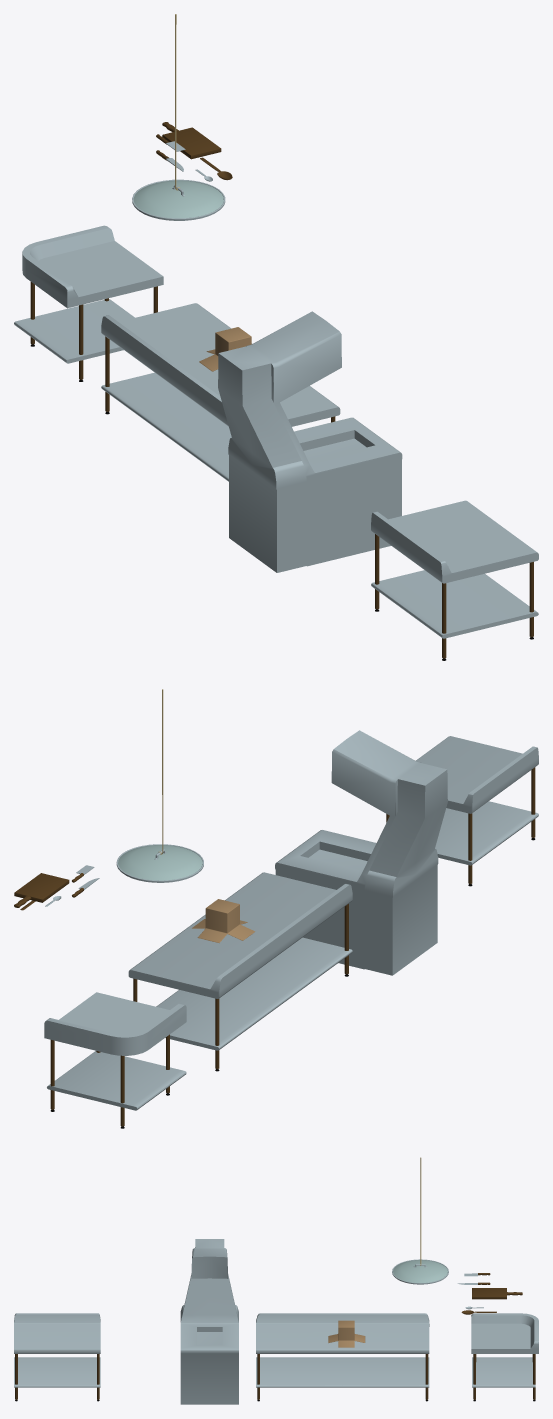
3 views of the same model, one above another, from view 1: azimuth 30°, elevation 25°; view 2: azimuth 150°, elevation 25°; view 3: azimuth 270°, elevation 25° (orthographic). The views are drawn at different scales.
Visible parts, largest first — view 1: Cube.002, Cylinder.005, Cube, Cylinder.007, Cylinder.003, Cube.014, Cube.004; view 2: Cube.002, Cube, Cylinder.007, Cylinder.005, Cylinder.003, Cube.004, Cube.014; view 3: Cube, Cube.002, Cylinder.005, Cylinder.007, Cylinder.003, Cube.004, Cube.014.
Boxes of the visible parts, <box> form: Cube.002: <box>218,311,402,572</box>; Cylinder.005: <box>371,500,538,660</box>; Cube: <box>101,303,340,481</box>; Cylinder.007: <box>14,225,163,381</box>; Cylinder.003: <box>132,14,225,220</box>; Cube.014: <box>162,122,221,159</box>; Cube.004: <box>199,327,251,371</box>; Cube.002: <box>275,730,447,975</box>; Cube: <box>128,872,352,1071</box>; Cylinder.007: <box>44,992,186,1128</box>; Cylinder.005: <box>386,736,538,886</box>; Cylinder.003: <box>116,689,203,882</box>; Cube.004: <box>192,899,255,942</box>; Cube.014: <box>14,873,69,907</box>; Cube: <box>256,1313,429,1401</box>; Cube.002: <box>180,1239,238,1404</box>; Cylinder.005: <box>14,1313,100,1401</box>; Cylinder.007: <box>471,1313,538,1401</box>; Cylinder.003: <box>392,1157,448,1284</box>; Cube.004: <box>328,1320,365,1347</box>; Cube.014: <box>472,1288,522,1299</box>.
Bounding box in the file's own units: 787 × 1387 × 2765.
